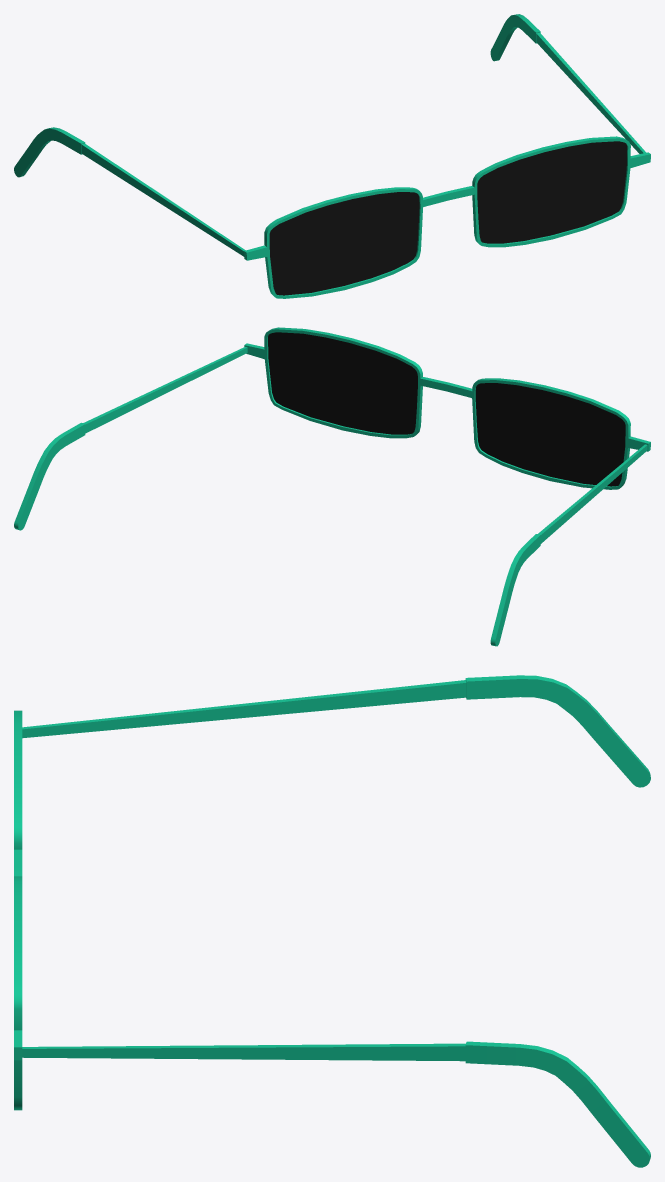
File: glasses29.001.obj
The picture shows the model from 3 angles, top to bottom: view 1: azimuth 30°, elevation 25°; view 2: azimuth 150°, elevation 25°; view 3: azimuth 270°, elevation 25°; orthographic projection. The views are drawn at different scales.
Parts seen in each view (by area): view 1: glasses29.001_Cylinder.001_Material.031, glasses29.001_Cylinder.001_Material.030; view 2: glasses29.001_Cylinder.001_Material.031, glasses29.001_Cylinder.001_Material.030; view 3: glasses29.001_Cylinder.001_Material.030.
Part boxes in pixels (x1,y1,x2,y2): glasses29.001_Cylinder.001_Material.031: (269,141,627,295); glasses29.001_Cylinder.001_Material.030: (14,14,650,298); glasses29.001_Cylinder.001_Material.031: (268,332,625,486); glasses29.001_Cylinder.001_Material.030: (14,327,650,646); glasses29.001_Cylinder.001_Material.030: (14,675,650,1167).
Bounding box in the file's own units: 2.11 × 0.3851 × 1.47.
